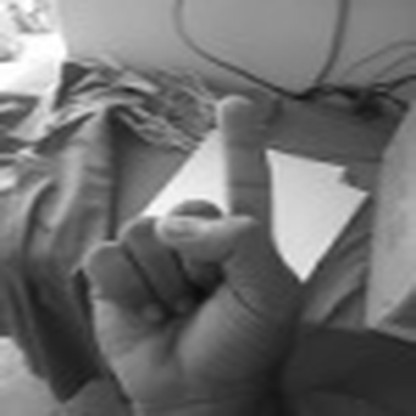d: (79, 87, 299, 416)
